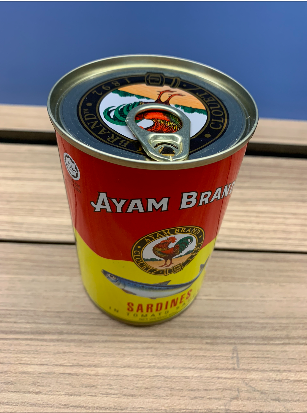Sardines_400-499g: (66, 102, 218, 316)
